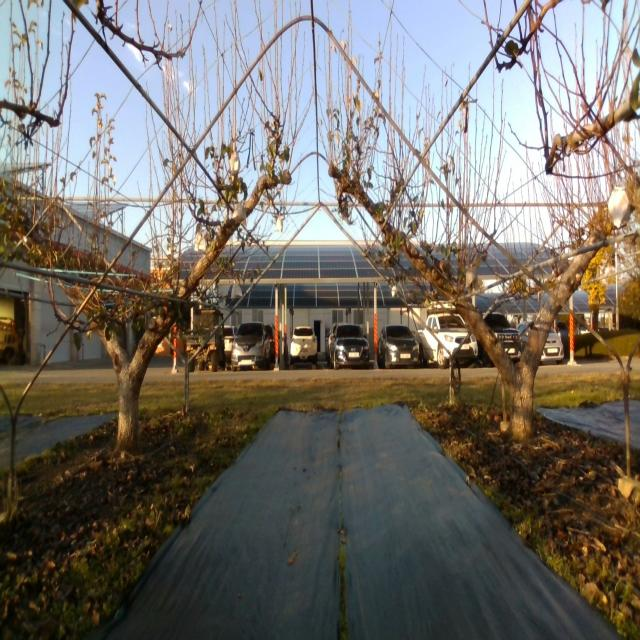pearbags: (608, 187, 630, 228), (232, 203, 246, 229), (466, 268, 478, 290), (194, 230, 206, 252), (230, 151, 240, 175)
